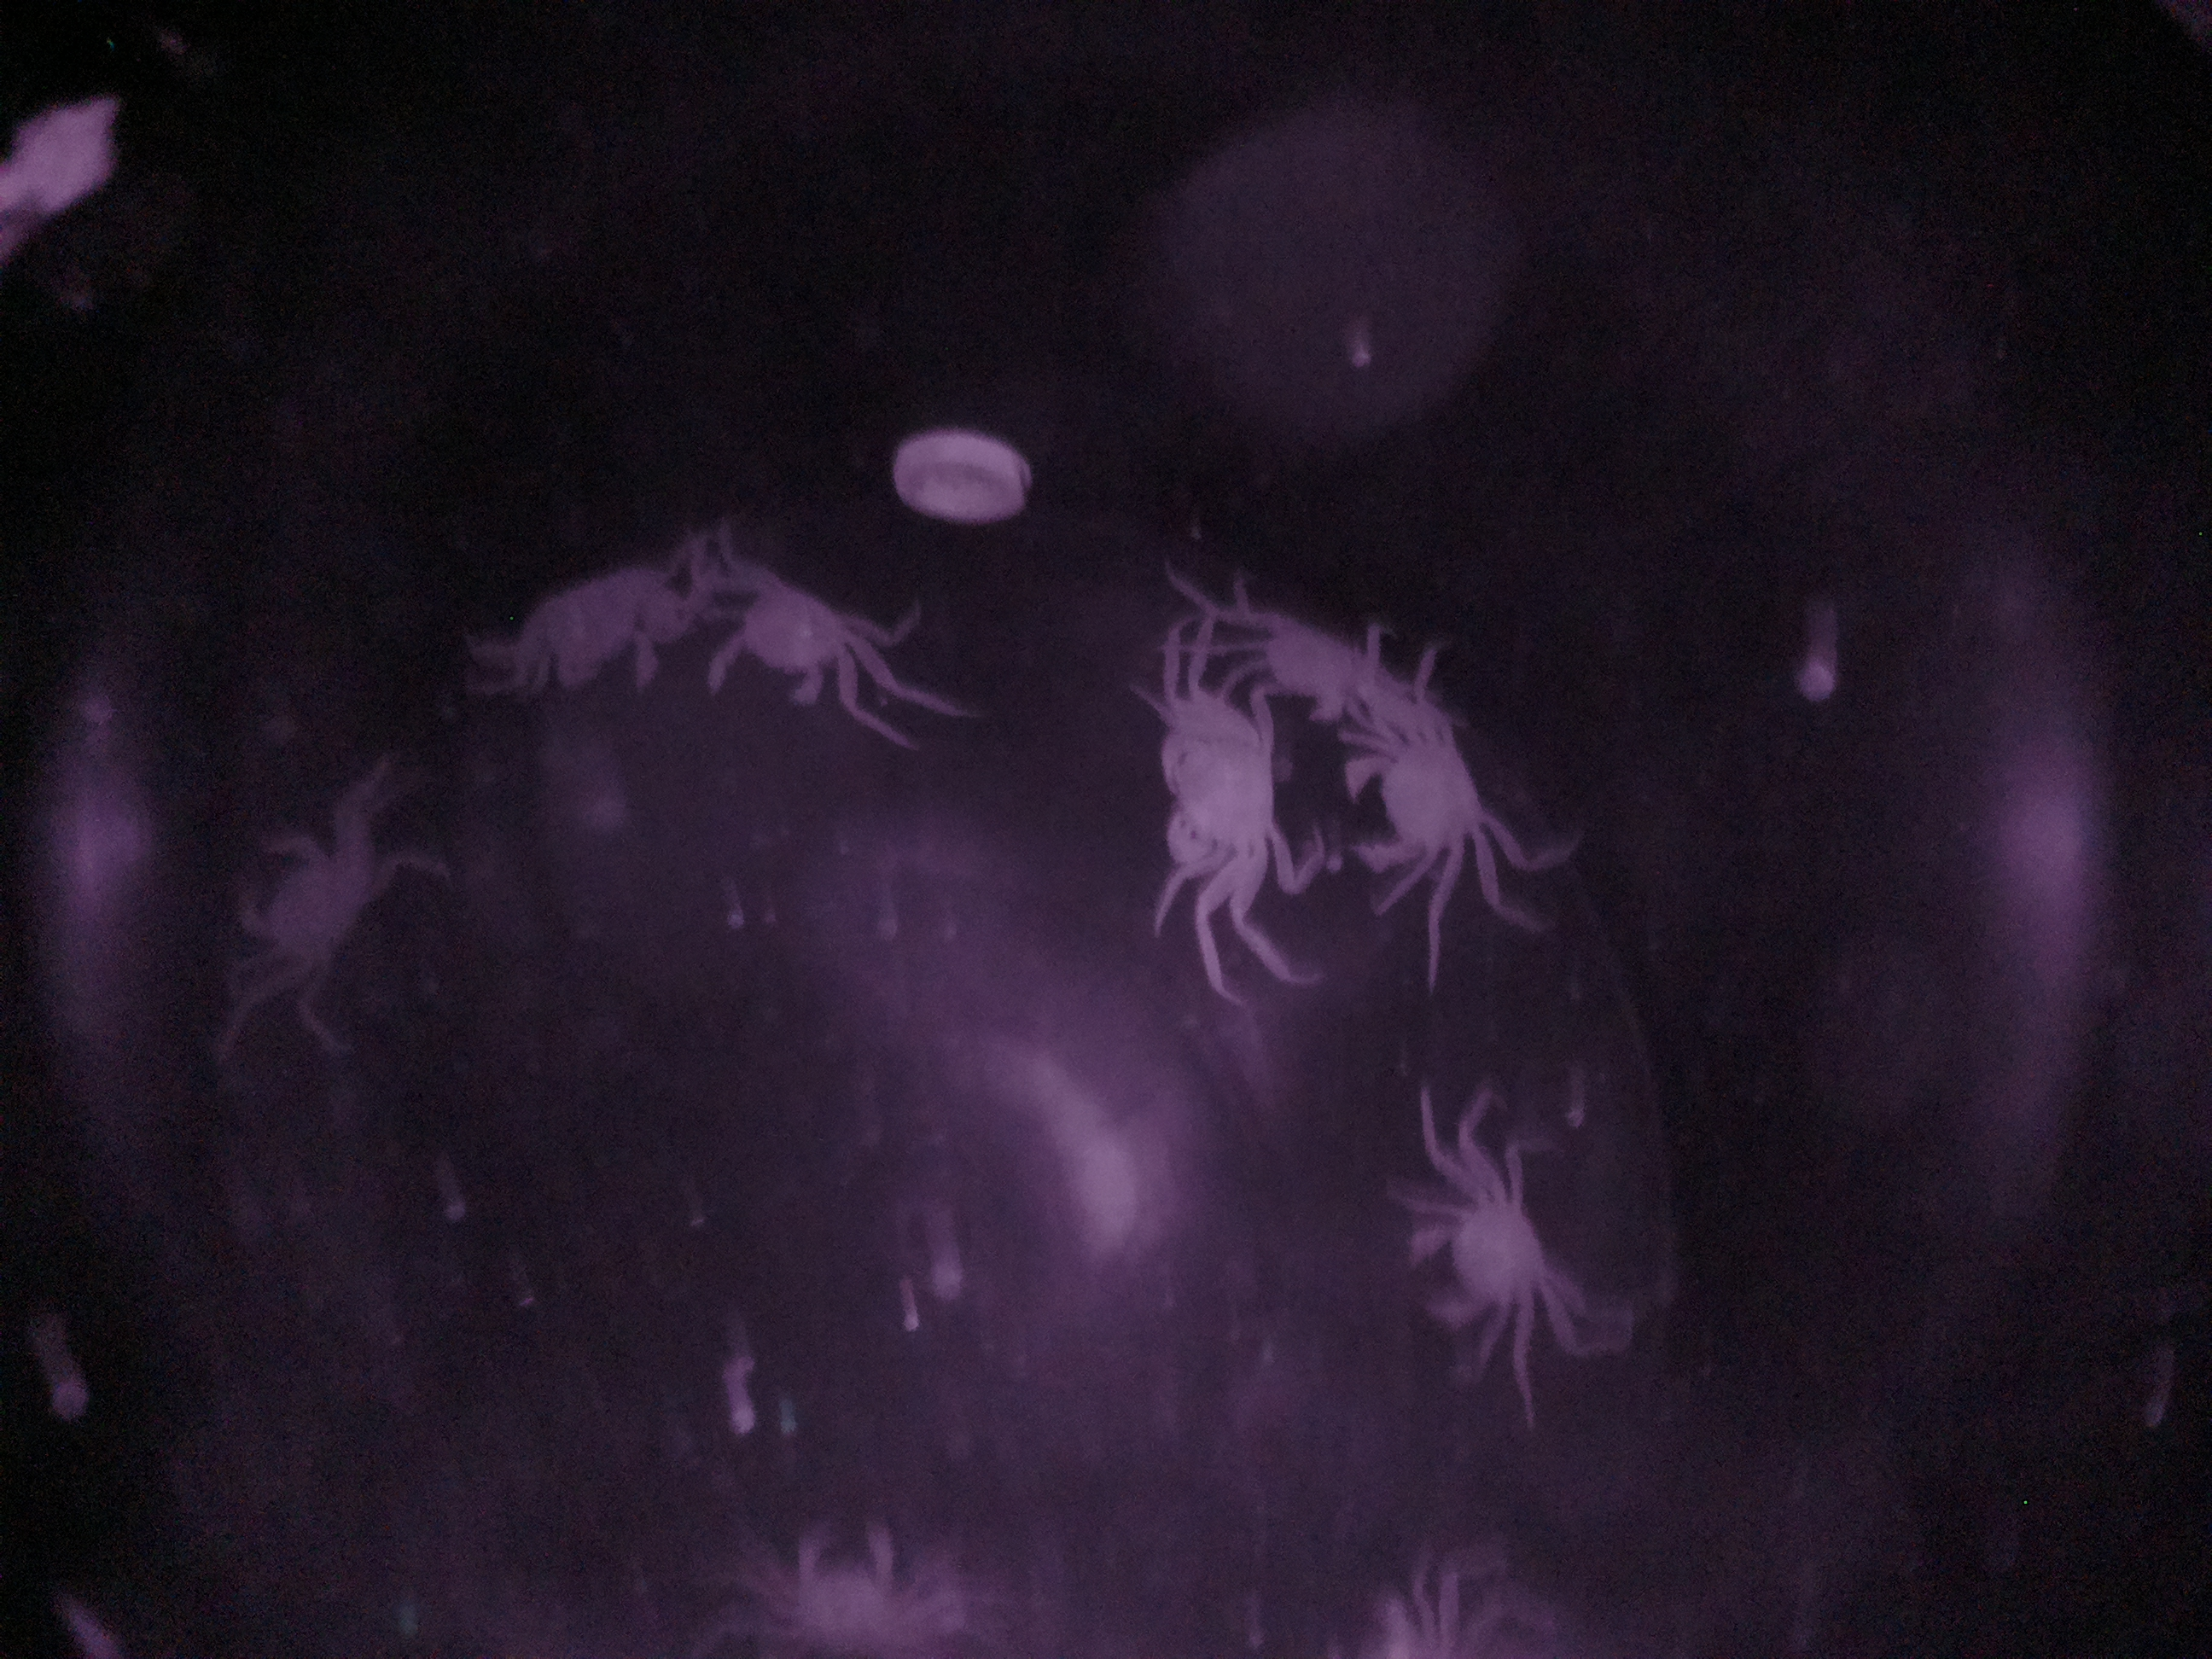Crab: (1388, 1136, 1588, 1366), (1338, 673, 1515, 906), (686, 556, 890, 734), (1132, 655, 1285, 890)
